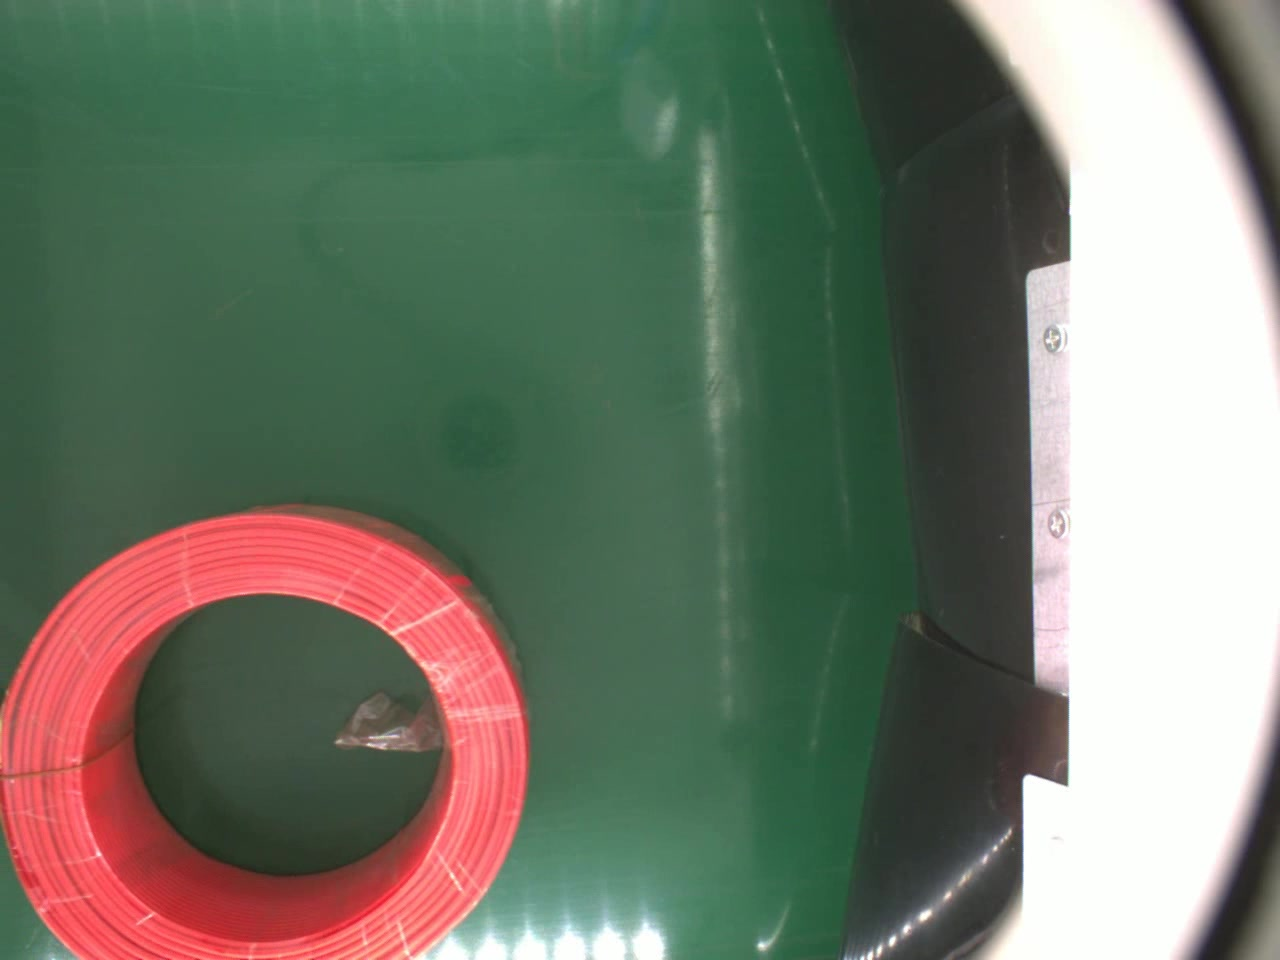red: (0, 505, 532, 960)
